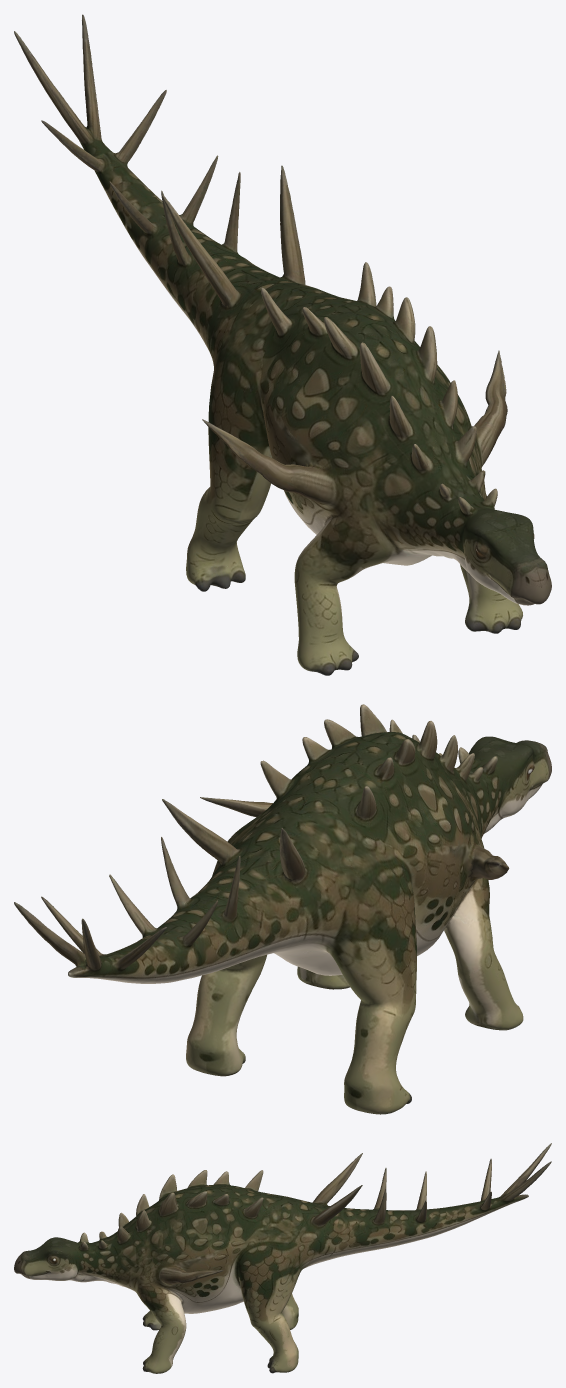
The model's file is K-dino.glb.
3 views of the same model, one above another, from view 1: azimuth 30°, elevation 25°; view 2: azimuth 150°, elevation 25°; view 3: azimuth 270°, elevation 25° (orthographic). The views are drawn at different scales.
Bounding box in the file's own units: 0.6617 × 0.7571 × 1.9.
1 material, 1 textured.
